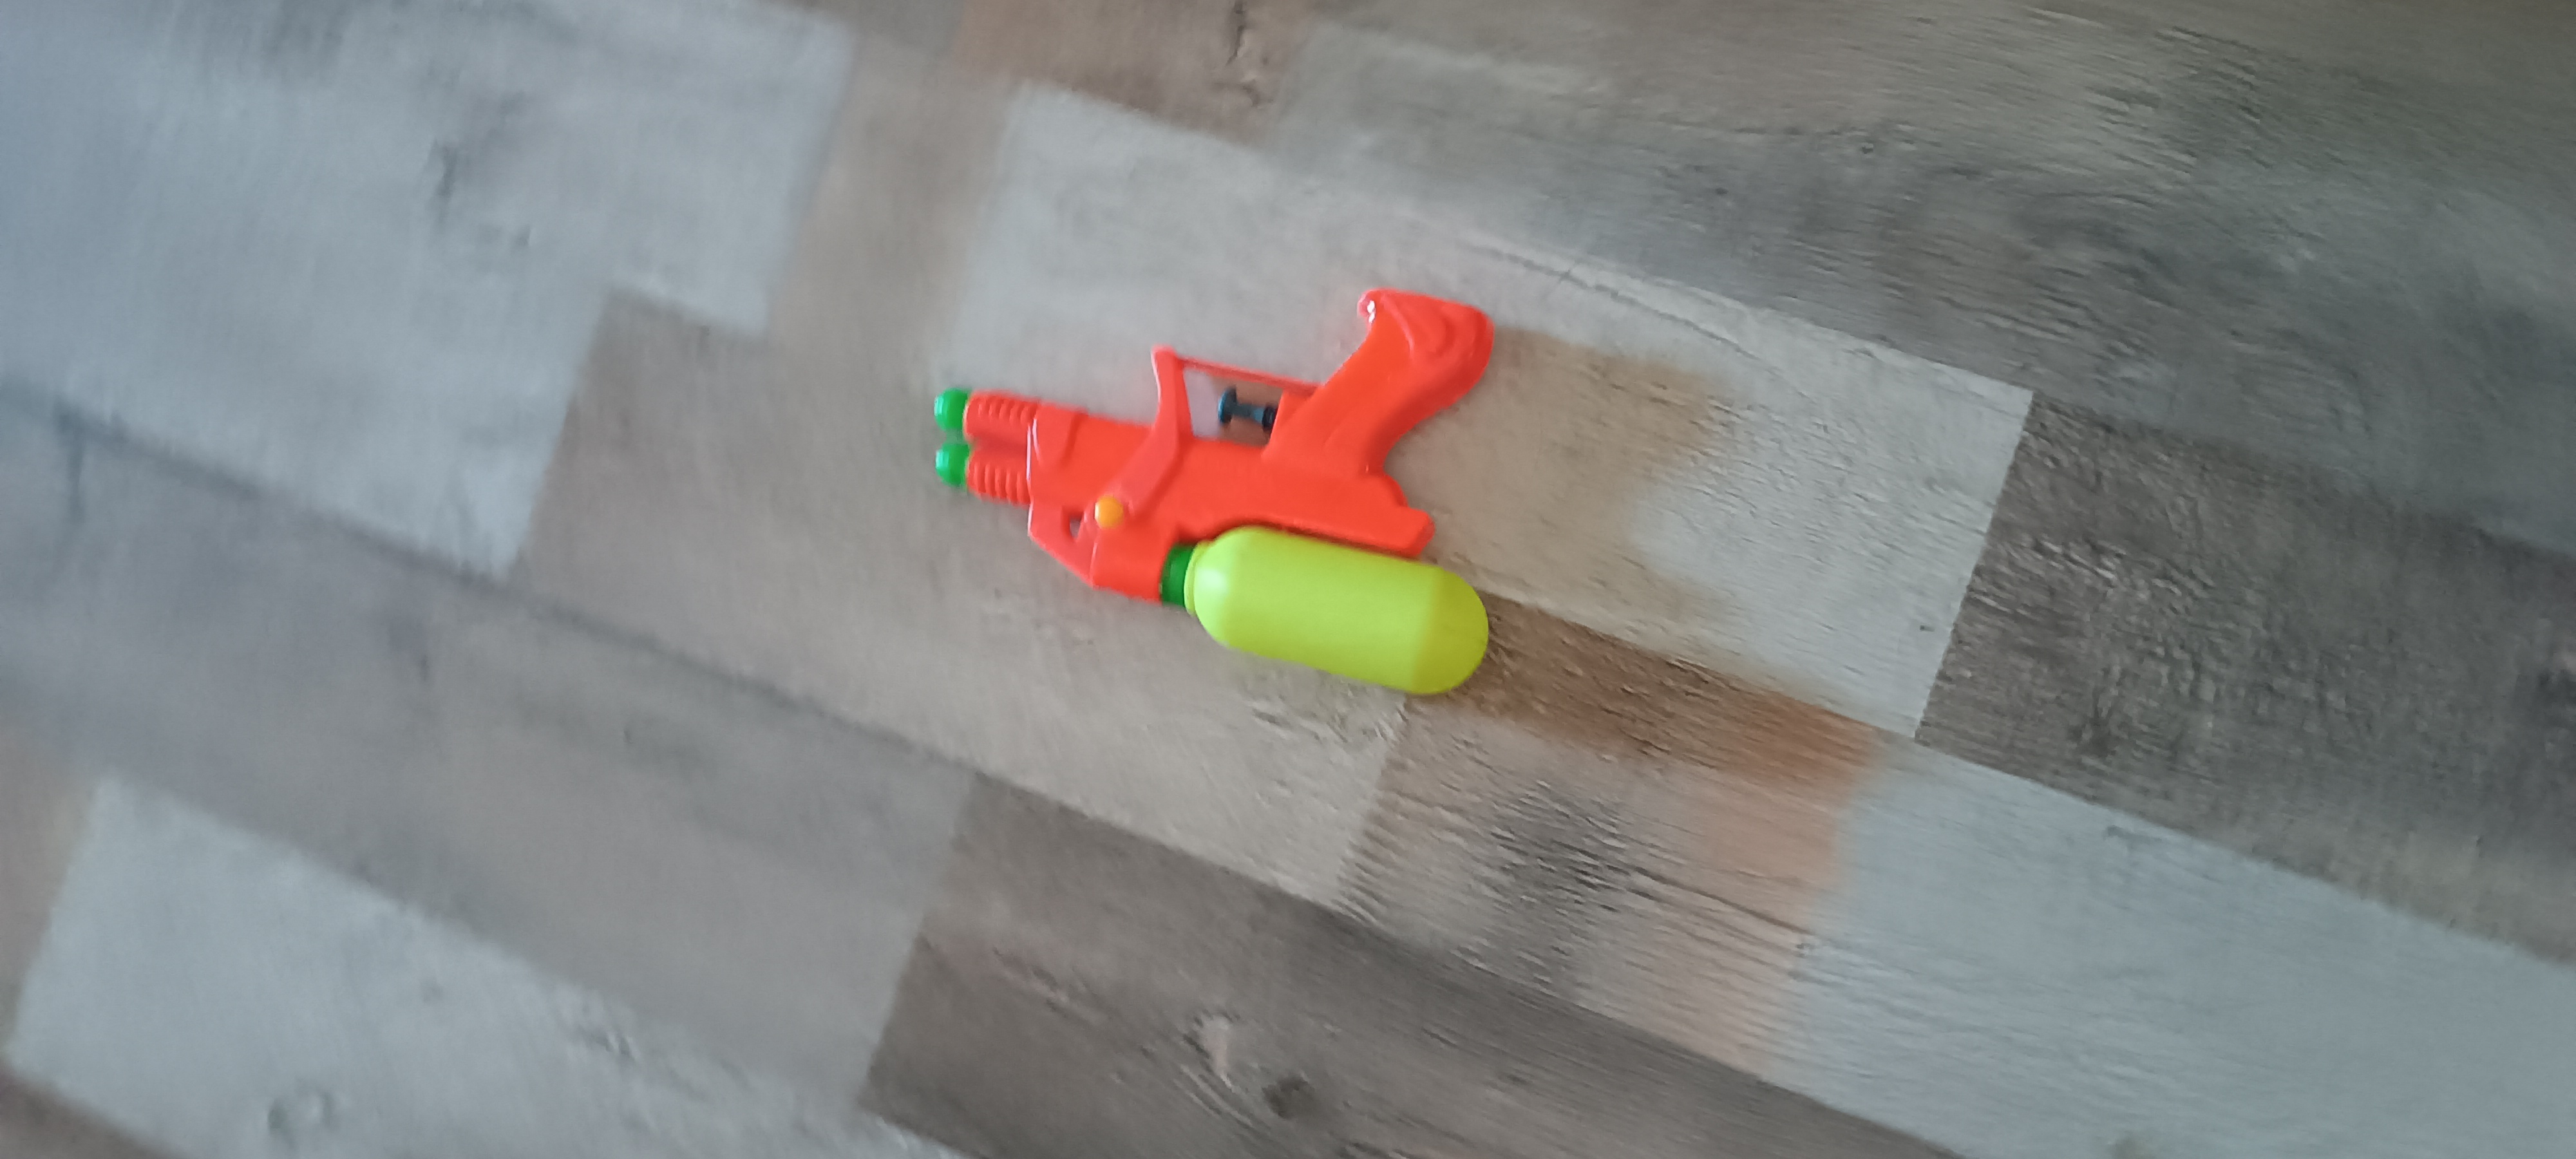Water Gun: (931, 289, 1497, 699)
